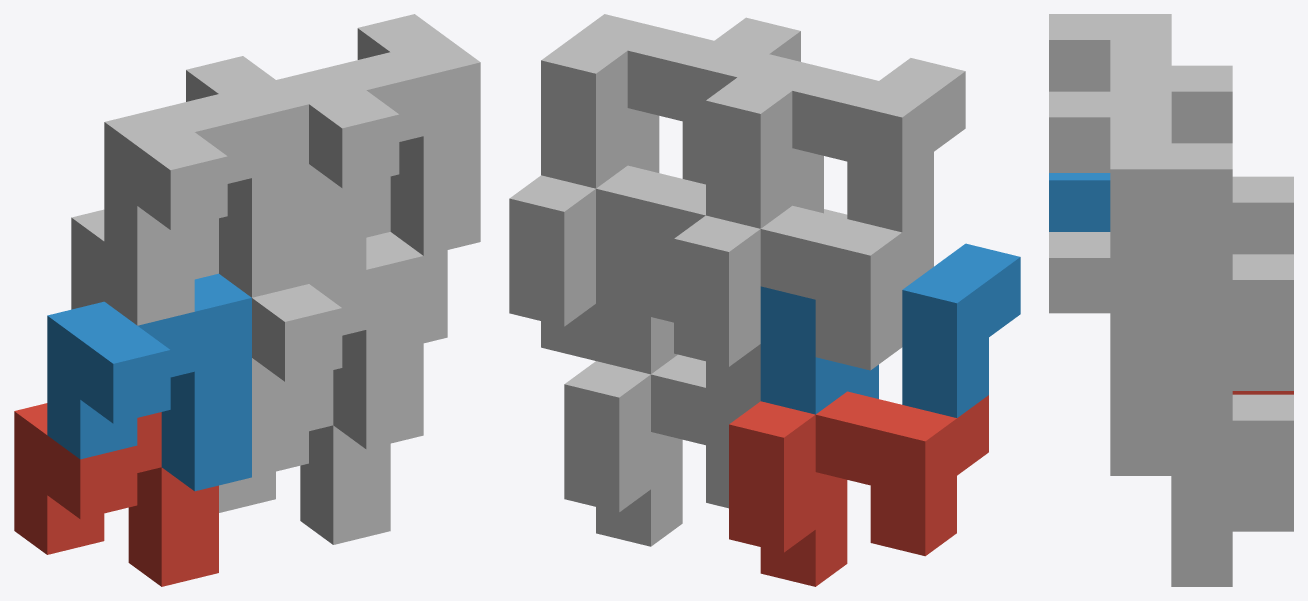
File: tiling.obj
3 renders of one model, left to right at view 1: azimuth 30°, elevation 25°; view 2: azimuth 150°, elevation 25°; view 3: azimuth 270°, elevation 25°, orthographic. The views are drawn at different scales.
Parts seen in each view (by area): view 1: copy_1_domain_4, copy_1_domain_8, copy_1_domain_2, copy_1_domain_6, copy_1_domain_1, copy_1_domain_5, copy_1_domain_3, copy_1_domain_7; view 2: copy_1_domain_4, copy_1_domain_1, copy_1_domain_3, copy_1_domain_8, copy_1_domain_5, copy_1_domain_2, copy_1_domain_7, copy_1_domain_6; view 3: copy_1_domain_8, copy_1_domain_7, copy_1_domain_5, copy_1_domain_4, copy_1_domain_6, copy_1_domain_3, copy_1_domain_2.
Boxes of the visible parts, x1,y1,x2,y2 form: copy_1_domain_4: (104,56,308,297); copy_1_domain_8: (276,14,480,255); copy_1_domain_2: (47,273,251,491); copy_1_domain_6: (252,232,423,449); copy_1_domain_1: (14,403,218,586); copy_1_domain_5: (219,370,390,544); copy_1_domain_3: (71,209,218,325); copy_1_domain_7: (309,176,447,343); copy_1_domain_4: (706,54,965,232); copy_1_domain_1: (729,391,988,586); copy_1_domain_3: (674,205,933,400); copy_1_domain_8: (541,14,800,188); copy_1_domain_5: (564,354,760,546); copy_1_domain_2: (760,243,1020,417); copy_1_domain_7: (509,165,705,360); copy_1_domain_6: (596,209,847,374); copy_1_domain_8: (1049,91,1232,335); copy_1_domain_7: (1171,254,1293,446); copy_1_domain_5: (1171,394,1293,586); copy_1_domain_4: (1049,14,1232,143); copy_1_domain_6: (1049,232,1171,475); copy_1_domain_3: (1232,176,1293,254); copy_1_domain_2: (1049,173,1110,231).
Bounding box in the file's own units: 7 × 8 × 4.
